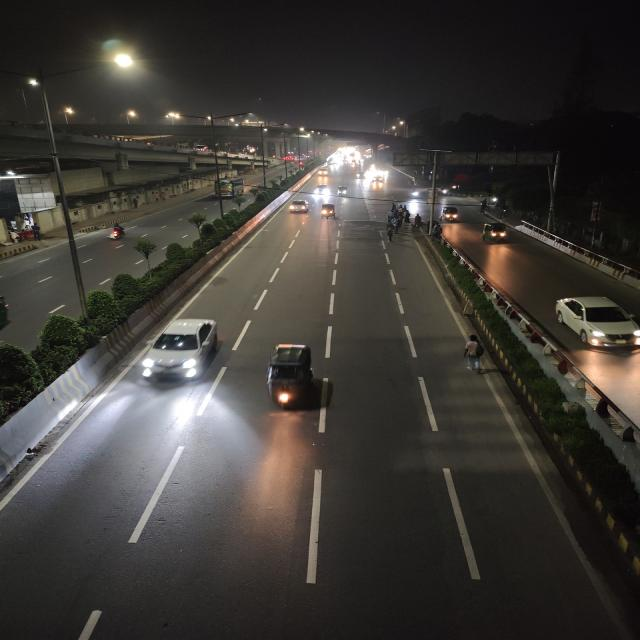bus: (212, 179, 246, 198)
car: (139, 314, 228, 388), (550, 292, 640, 353), (288, 199, 309, 215), (314, 182, 329, 194)
cng: (263, 342, 319, 412), (479, 220, 510, 246), (439, 205, 462, 223), (320, 202, 338, 220), (335, 185, 350, 198)
motorcycle: (102, 220, 130, 244)
pedestrian: (457, 332, 490, 376), (386, 209, 400, 227), (412, 212, 425, 231), (385, 222, 400, 238)
